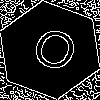O: (25, 25, 82, 83)
